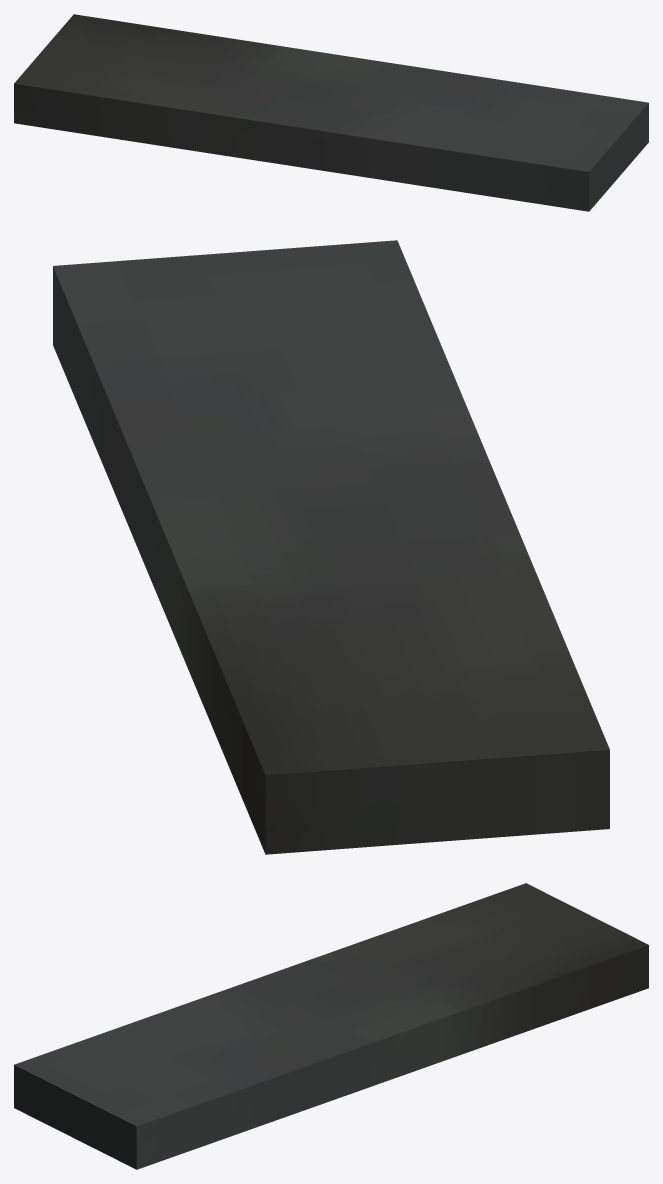
Rendered from frame__gauge_tick_4.glb.
3 views of the same model, one above another, from view 1: azimuth 30°, elevation 25°; view 2: azimuth 150°, elevation 25°; view 3: azimuth 270°, elevation 25° (orthographic). The views are drawn at different scales.
Parts seen in each view (by area): view 1: geometry_0; view 2: geometry_0; view 3: geometry_0.
Part boxes in pixels (x1,y1,x2,y2): geometry_0: (14,14,648,211); geometry_0: (53,240,609,854); geometry_0: (14,883,648,1169).
Bounding box in the file's own units: 0.0121 × 0.001 × 0.0133.
1 material, 1 textured.
